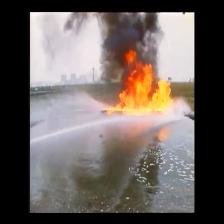fire: (122, 66, 171, 112)
smoke: (104, 12, 157, 63)
